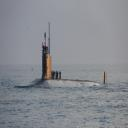submarine: (21, 22, 116, 91)
